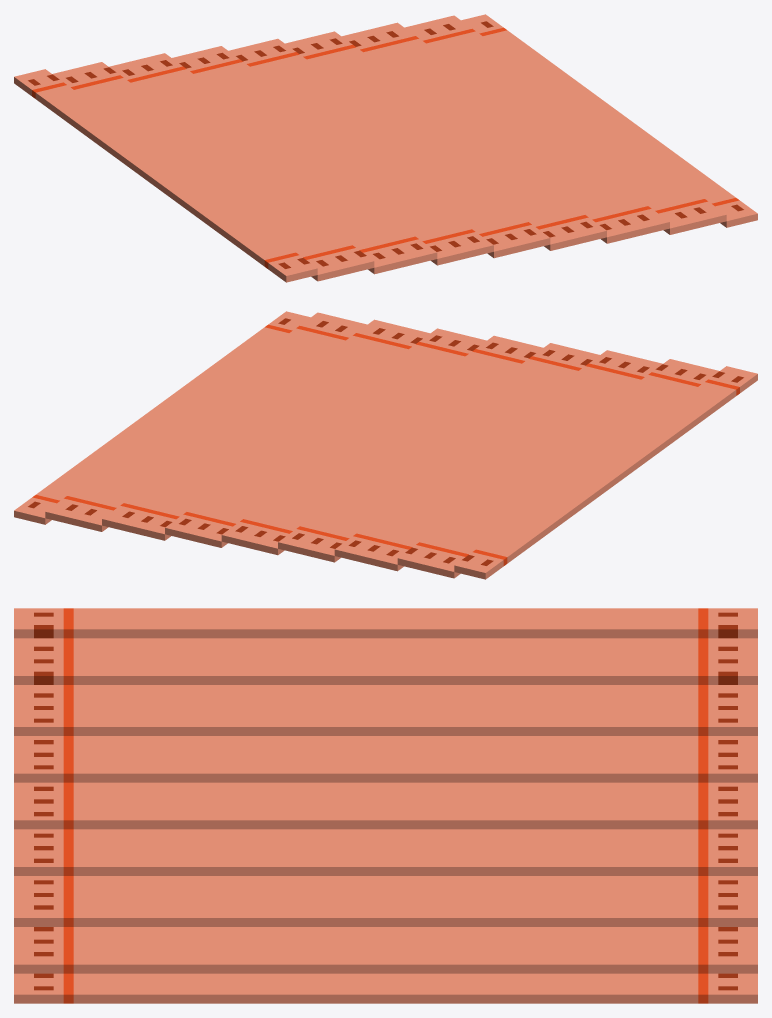
Rendered from incline-0.obj.
The picture shows the model from 3 angles, top to bottom: view 1: azimuth 30°, elevation 25°; view 2: azimuth 150°, elevation 25°; view 3: azimuth 270°, elevation 25°; orthographic projection. The views are drawn at different scales.
Parts seen in each view (by area): view 1: incline-0; view 2: incline-0; view 3: incline-0.
Part boxes in pixels (x1=…): incline-0: x1=14, y1=14, x2=757, y2=282; incline-0: x1=14, y1=311, x2=757, y2=579; incline-0: x1=14, y1=608, x2=757, y2=1003.
Size of the model in its own units: 75 by 9 by 75.
Materials: 1 (1 with a texture image).
